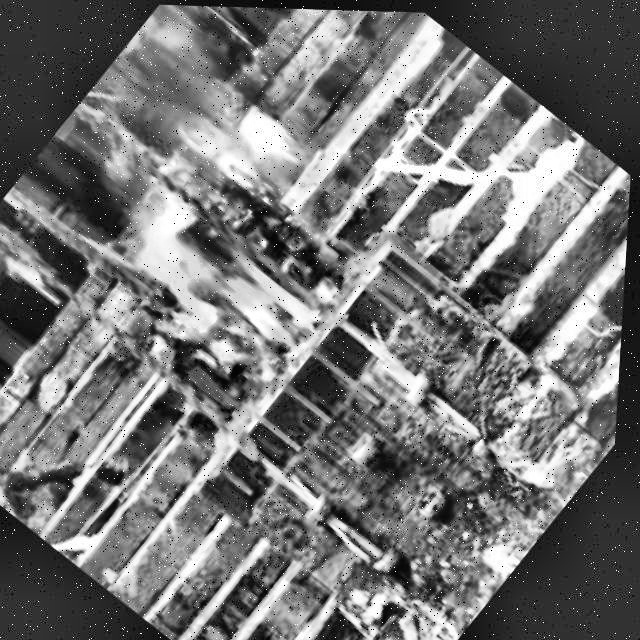Fire: (104, 188, 341, 399)
